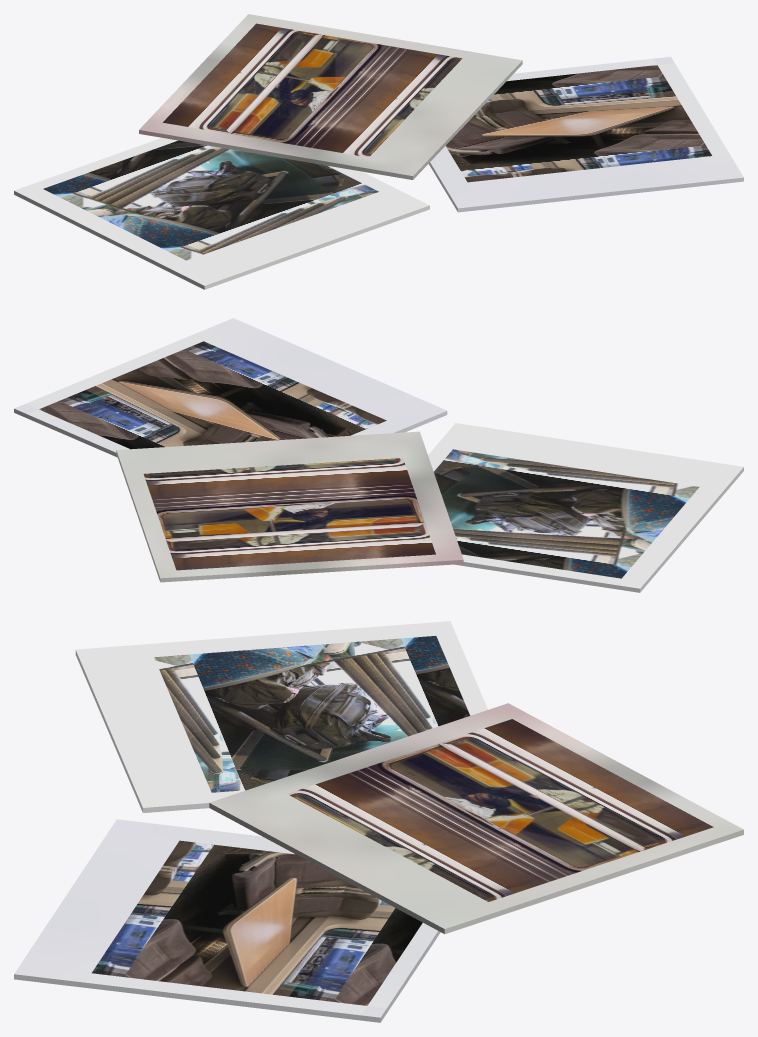
Rendered from fotos.fbx.
3 views of the same model, one above another, from view 1: azimuth 30°, elevation 25°; view 2: azimuth 150°, elevation 25°; view 3: azimuth 270°, elevation 25° (orthographic). The views are drawn at different scales.
Visible parts, largest first — view 1: Plane.001, Plane.002, Plane.004; view 2: Plane.001, Plane.002, Plane.004; view 3: Plane.001, Plane.004, Plane.002.
Part boxes in pixels (bbox=[...]): Plane.001: bbox=[139, 14, 522, 179]; Plane.002: bbox=[14, 138, 429, 289]; Plane.004: bbox=[429, 56, 743, 212]; Plane.001: bbox=[116, 431, 463, 582]; Plane.002: bbox=[428, 423, 743, 592]; Plane.004: bbox=[14, 318, 447, 457]; Plane.001: bbox=[209, 703, 743, 934]; Plane.004: bbox=[14, 819, 440, 1022]; Plane.002: bbox=[75, 621, 487, 812].
Size of the model in its own units: 56 by 1.05 by 43.56.
